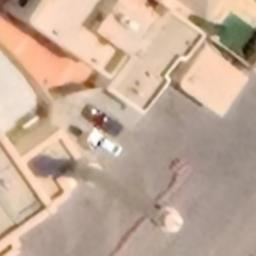sedan: (81, 102, 125, 138), (86, 129, 124, 161)
